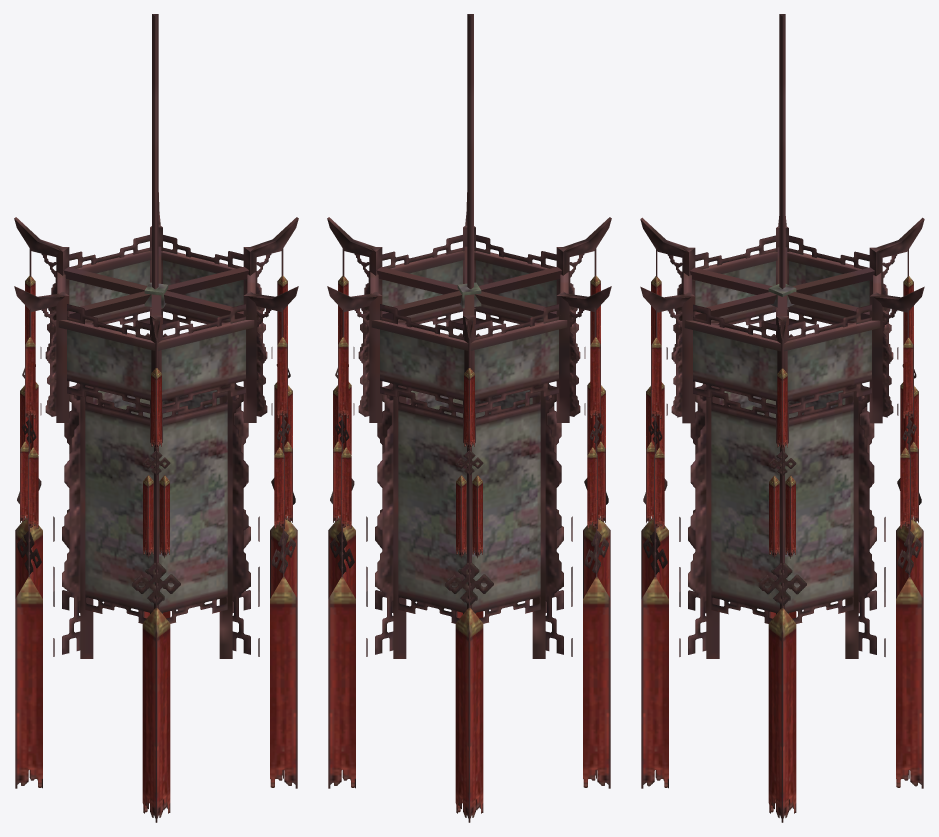
Rendered from hanging_lantern.obj.
3 renders of one model, left to right at view 1: azimuth 30°, elevation 25°; view 2: azimuth 150°, elevation 25°; view 3: azimuth 270°, elevation 25°, orthographic.
Visible parts, largest first — view 1: hanging_lantern.001; view 2: hanging_lantern.001; view 3: hanging_lantern.001.
Boxes of the visible parts, x1,y1,x2,y2 form: hanging_lantern.001: [14, 14, 298, 822]; hanging_lantern.001: [327, 14, 611, 822]; hanging_lantern.001: [640, 14, 924, 822].
Bounding box in the file's own units: 0.6611 × 1.65 × 0.5766.
1 material, 1 textured.
